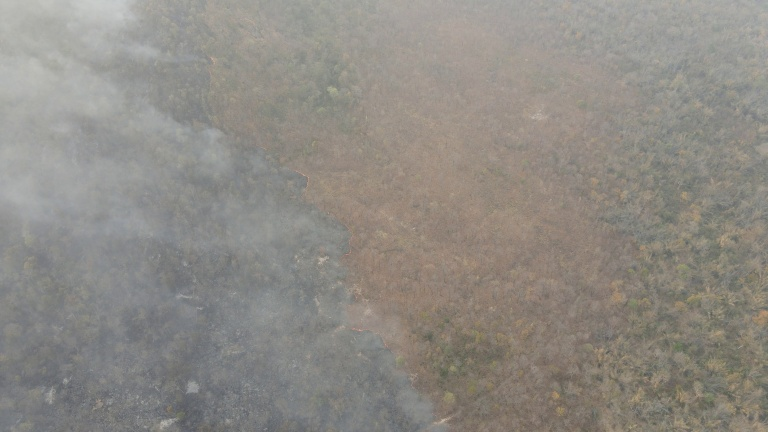smoke: (1, 1, 450, 430)
